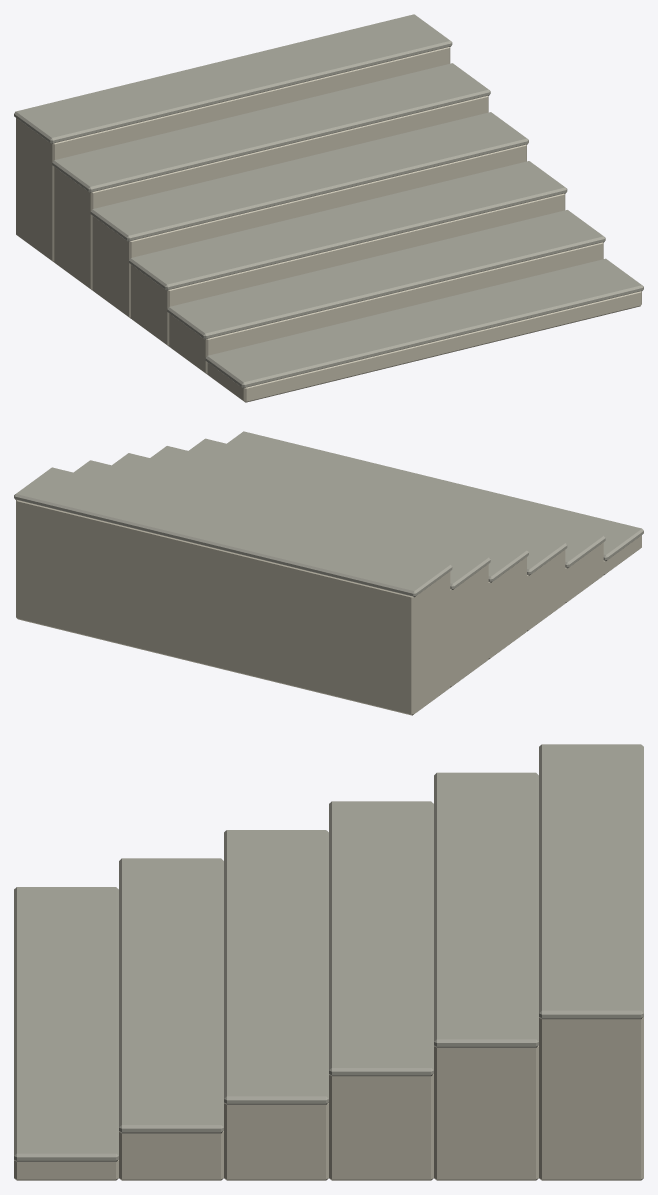
File: stairs.glb
The picture shows the model from 3 angles, top to bottom: view 1: azimuth 30°, elevation 25°; view 2: azimuth 150°, elevation 25°; view 3: azimuth 270°, elevation 25°; orthographic projection. The views are drawn at different scales.
Visible parts, largest first — view 1: TV_stairs; view 2: TV_stairs; view 3: TV_stairs.
Part boxes in pixels (x1,y1,x2,y2): TV_stairs: (14,14,643,402); TV_stairs: (14,431,643,715); TV_stairs: (14,744,643,1180).
Bounding box in the file's own units: 4.04 × 1.2 × 4.
